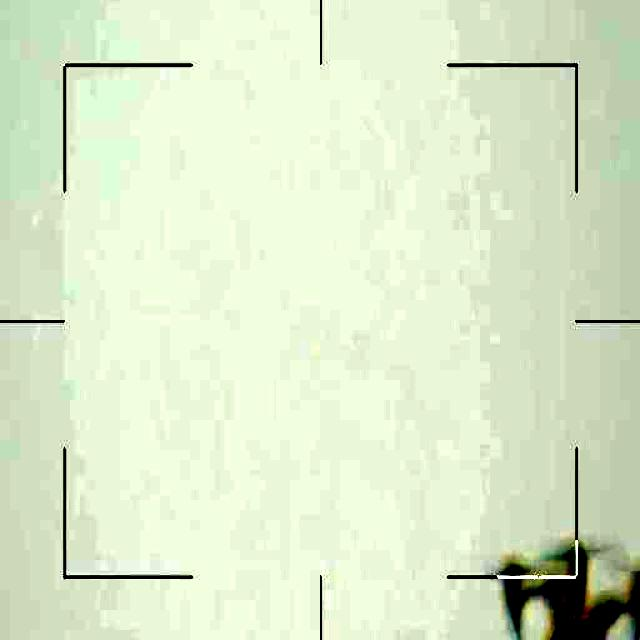bird: (480, 518, 640, 640)
